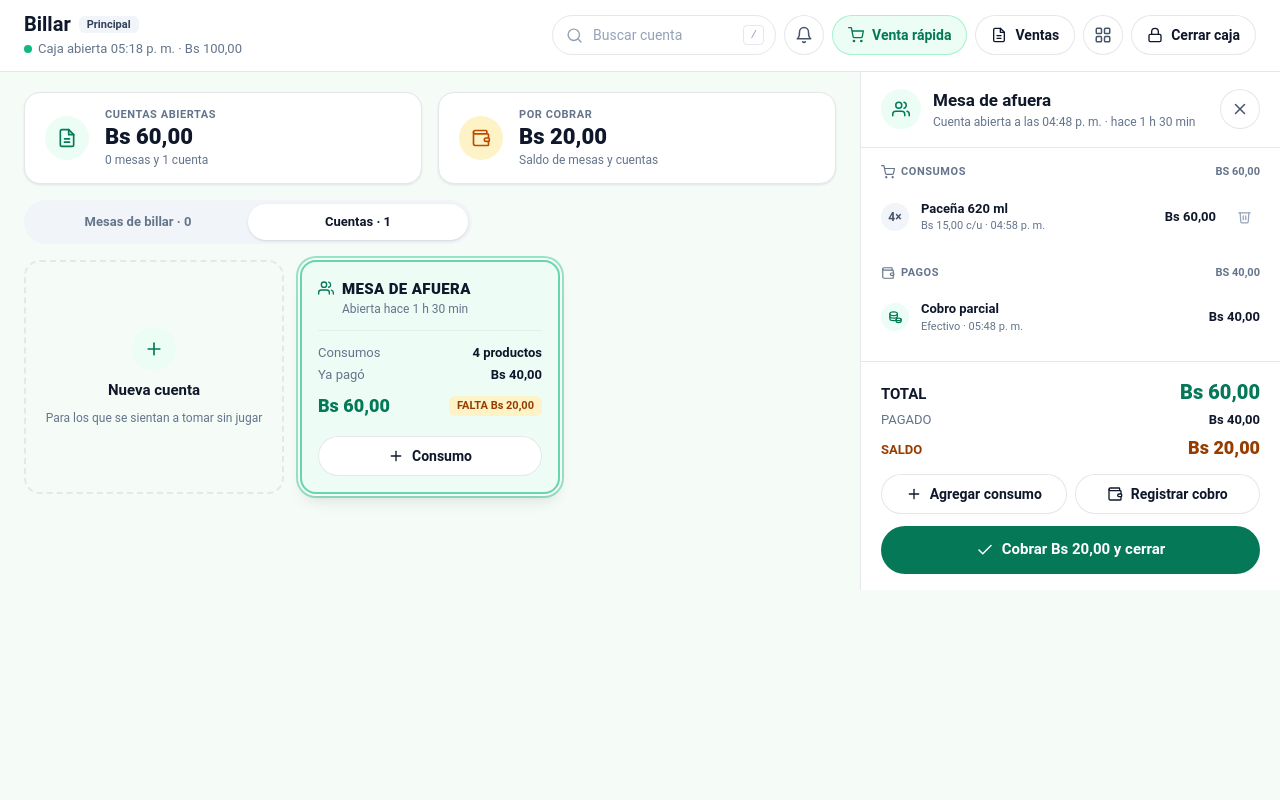
Test case: Billar: las cuentas abiertas › si la cuenta se cobra o se anula en otro equipo con el cobro abierto, el diálogo lo dice en vez de desaparecer
expect the heading "Billar Principal" is shown: met, box left=24, top=12, right=139, bottom=36
Click the button "Cobrar Bs 20,00 y cerrar". click: click(1070, 550)
box: left=881, top=526, right=1260, bottom=574
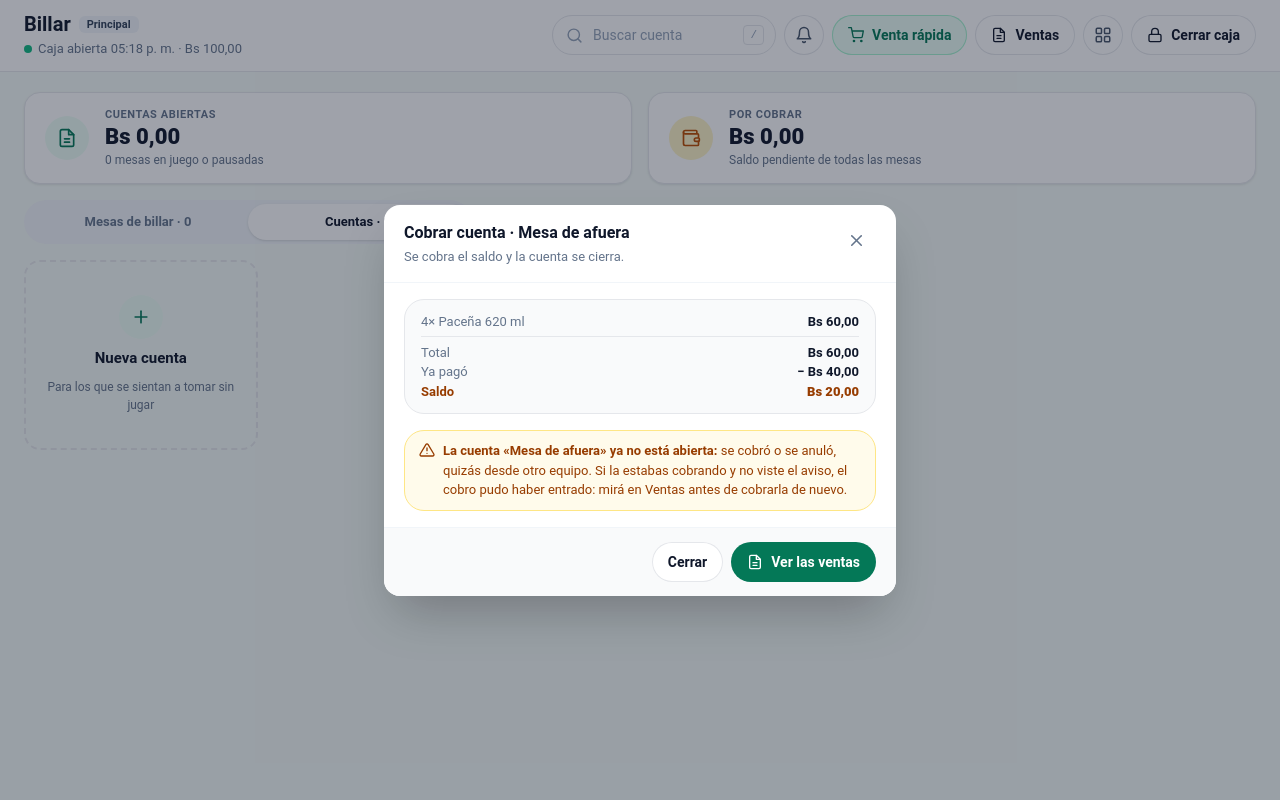
expect the text "La cuenta «Mesa de afuera» ya no está abierta:" is shown: met, box left=443, top=443, right=718, bottom=458
expect the button "Ver las ventas" is shown: met, box left=731, top=542, right=876, bottom=582
